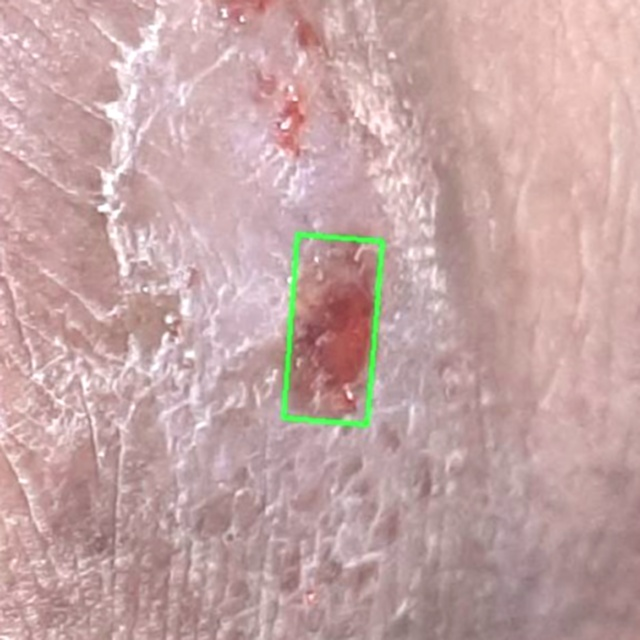Contact Dermatitis: (282, 234, 381, 423)
